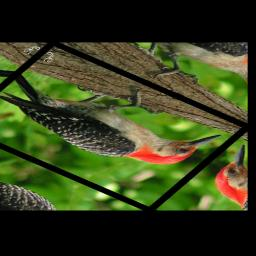Woodpecker: (0, 48, 232, 185)
